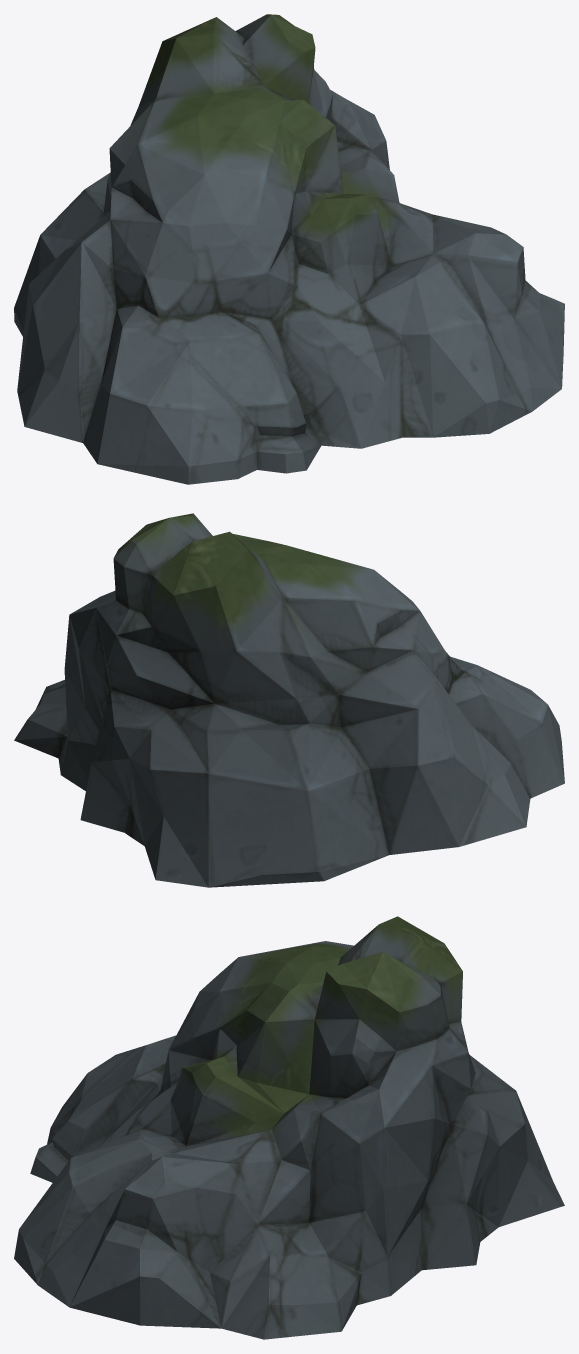
File: sc_qqnm_wj004_um.FBX
The picture shows the model from 3 angles, top to bottom: view 1: azimuth 30°, elevation 25°; view 2: azimuth 150°, elevation 25°; view 3: azimuth 270°, elevation 25°; orthographic projection. The views are drawn at different scales.
Parts seen in each view (by area): view 1: qqnm_wj004; view 2: qqnm_wj004; view 3: qqnm_wj004.
Boxes of the visible parts, left/top/right/bottom form: qqnm_wj004: left=14, top=14, right=564, bottom=484; qqnm_wj004: left=14, top=513, right=564, bottom=887; qqnm_wj004: left=14, top=916, right=564, bottom=1339.
Bounding box in the file's own units: 794 × 436 × 748.
1 material, 1 textured.
